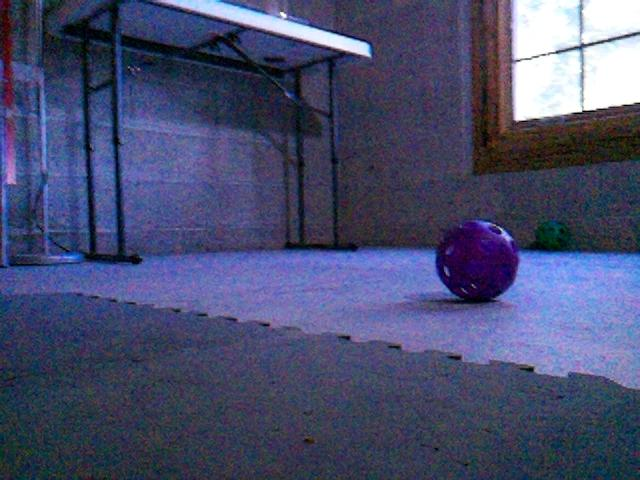Green: (533, 220, 570, 250)
Purple: (433, 219, 521, 301)
